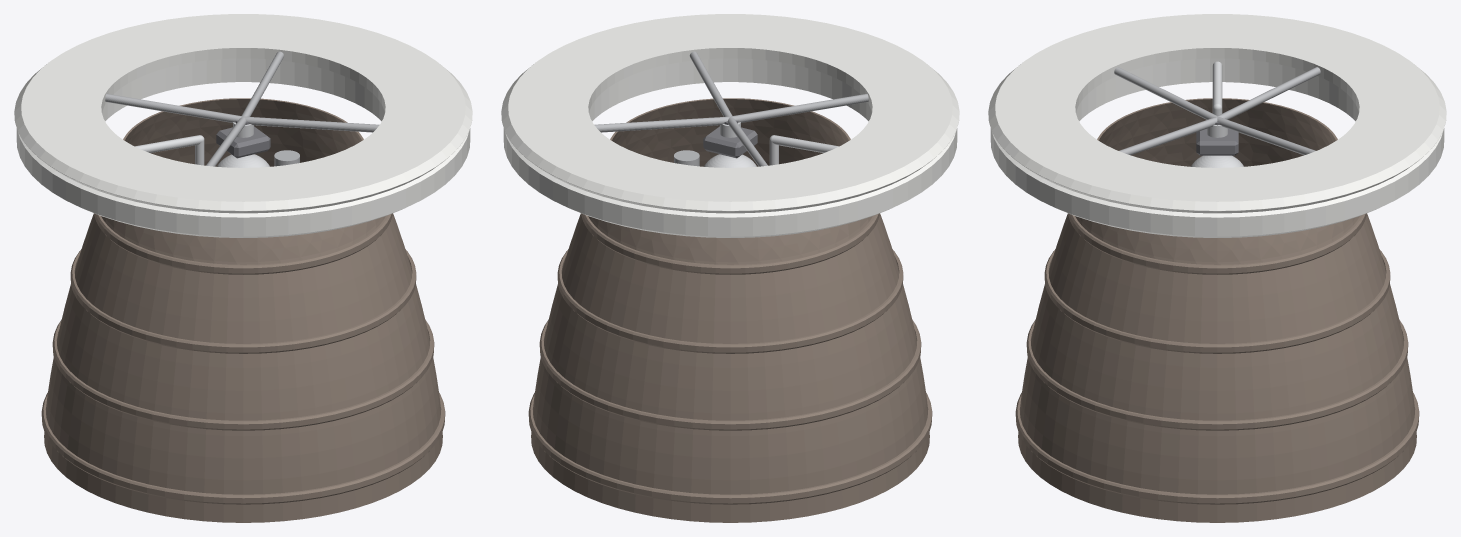
File: ax_prop_10_hydrolox_vac_m.glb
3 renders of one model, left to right at view 1: azimuth 30°, elevation 25°; view 2: azimuth 150°, elevation 25°; view 3: azimuth 270°, elevation 25°, orthographic.
Visible parts, largest first — view 1: nozzle_extension, mount_ring, thermal_blanket_ring, extension_hoops, thrust_struts, gimbal, plumbing, injector_dome; view 2: nozzle_extension, mount_ring, thermal_blanket_ring, extension_hoops, thrust_struts, gimbal, plumbing, injector_dome; view 3: nozzle_extension, mount_ring, thermal_blanket_ring, extension_hoops, thrust_struts, gimbal, injector_dome, plumbing.
Part boxes in pixels (x1,y1,x2,y2): nozzle_extension: [44, 98, 442, 522]; mount_ring: [14, 14, 472, 213]; thermal_blanket_ring: [16, 58, 470, 237]; extension_hoops: [41, 213, 445, 504]; thrust_struts: [105, 51, 379, 166]; gimbal: [216, 120, 270, 158]; plumbing: [135, 135, 204, 165]; injector_dome: [217, 122, 269, 167]; nozzle_extension: [531, 98, 929, 522]; mount_ring: [501, 14, 959, 213]; thermal_blanket_ring: [503, 58, 957, 237]; extension_hoops: [528, 213, 932, 504]; thrust_struts: [594, 51, 868, 166]; gimbal: [703, 120, 757, 158]; plumbing: [769, 135, 838, 165]; injector_dome: [704, 122, 756, 167]; nozzle_extension: [1018, 98, 1416, 522]; mount_ring: [988, 14, 1446, 213]; thermal_blanket_ring: [990, 58, 1444, 237]; extension_hoops: [1015, 213, 1419, 504]; thrust_struts: [1114, 67, 1320, 155]; gimbal: [1196, 118, 1238, 155]; injector_dome: [1191, 125, 1243, 167]; plumbing: [1212, 61, 1222, 115].
Size of the model in its own units: 2.5 by 1.99 by 2.5.
